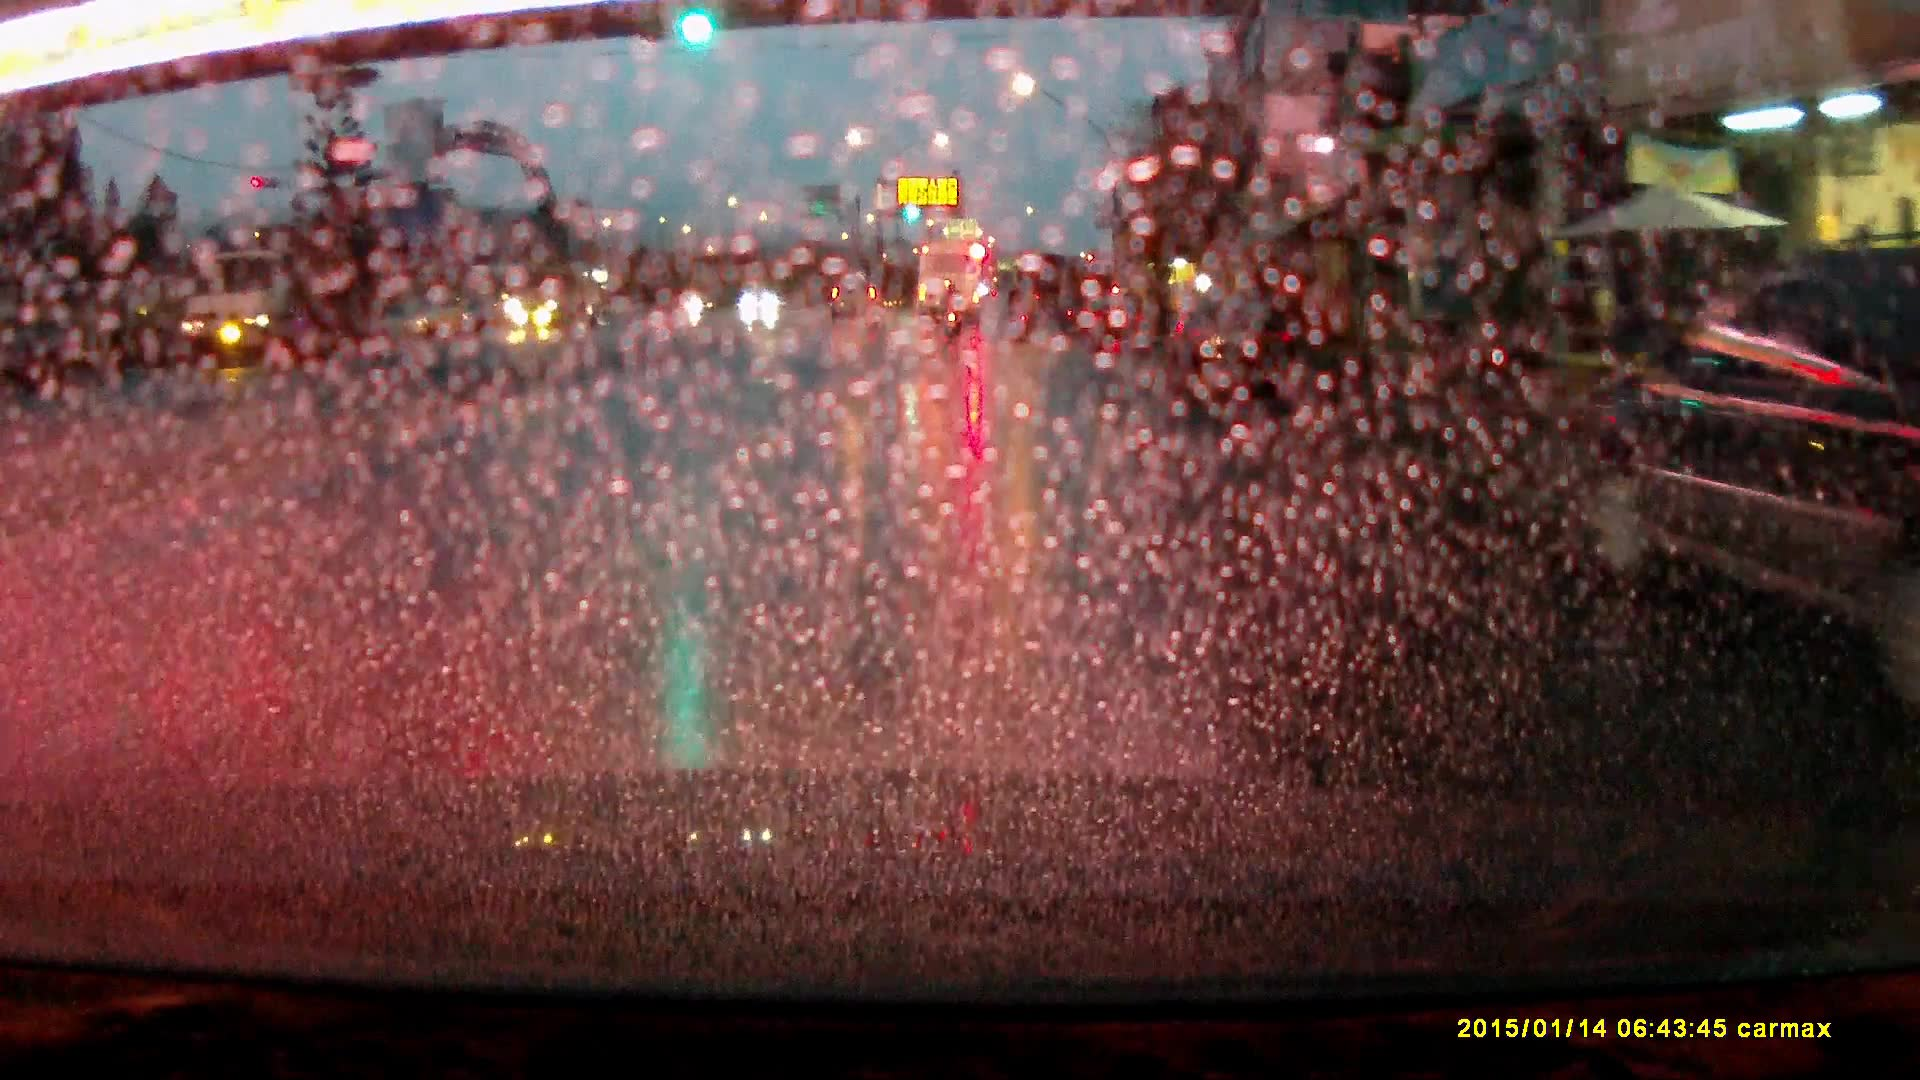rider: (943, 284, 968, 342)
vehicle: (1607, 302, 1920, 666), (173, 251, 370, 369), (1160, 309, 1296, 403), (509, 262, 601, 337), (917, 245, 984, 330), (1077, 299, 1146, 356), (828, 283, 885, 331), (743, 291, 784, 319)
